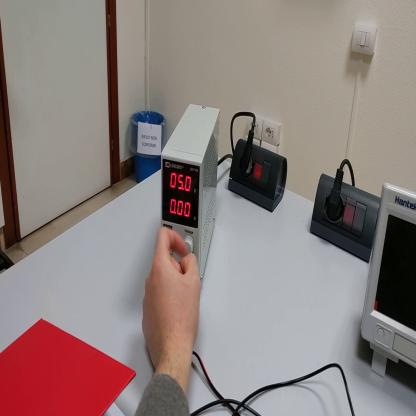hand: (142, 228, 201, 368)
oscilloscope: (361, 181, 416, 395)
power supply: (161, 105, 222, 288)
register: (2, 317, 138, 414)
socket: (310, 171, 381, 266), (229, 137, 289, 214)
